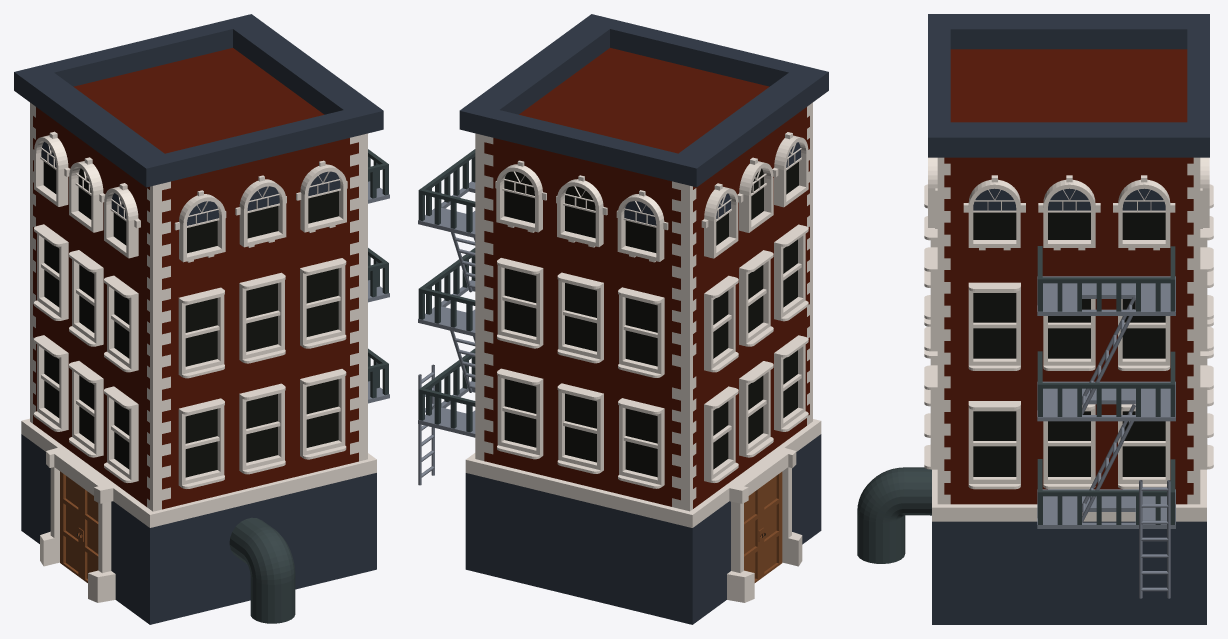
Rendered from Building 3.fbx.
3 views of the same model, side by side, from view 1: azimuth 30°, elevation 25°; view 2: azimuth 150°, elevation 25°; view 3: azimuth 270°, elevation 25° (orthographic). The views are drawn at different scales.
Visible parts, largest first — view 1: Middle_windows; view 2: Middle_windows; view 3: Middle_windows.
Part boxes in pixels (x1,y1,x2,y2): Middle_windows: [14, 14, 389, 624]; Middle_windows: [418, 14, 828, 624]; Middle_windows: [857, 14, 1213, 624].
Bounding box in the file's own units: 1304 × 1834 × 1210.
